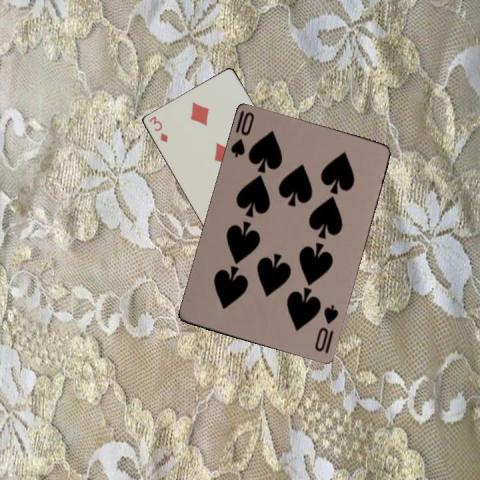10s: (228, 108, 256, 160), (311, 303, 340, 353)
3d: (146, 113, 169, 144)
